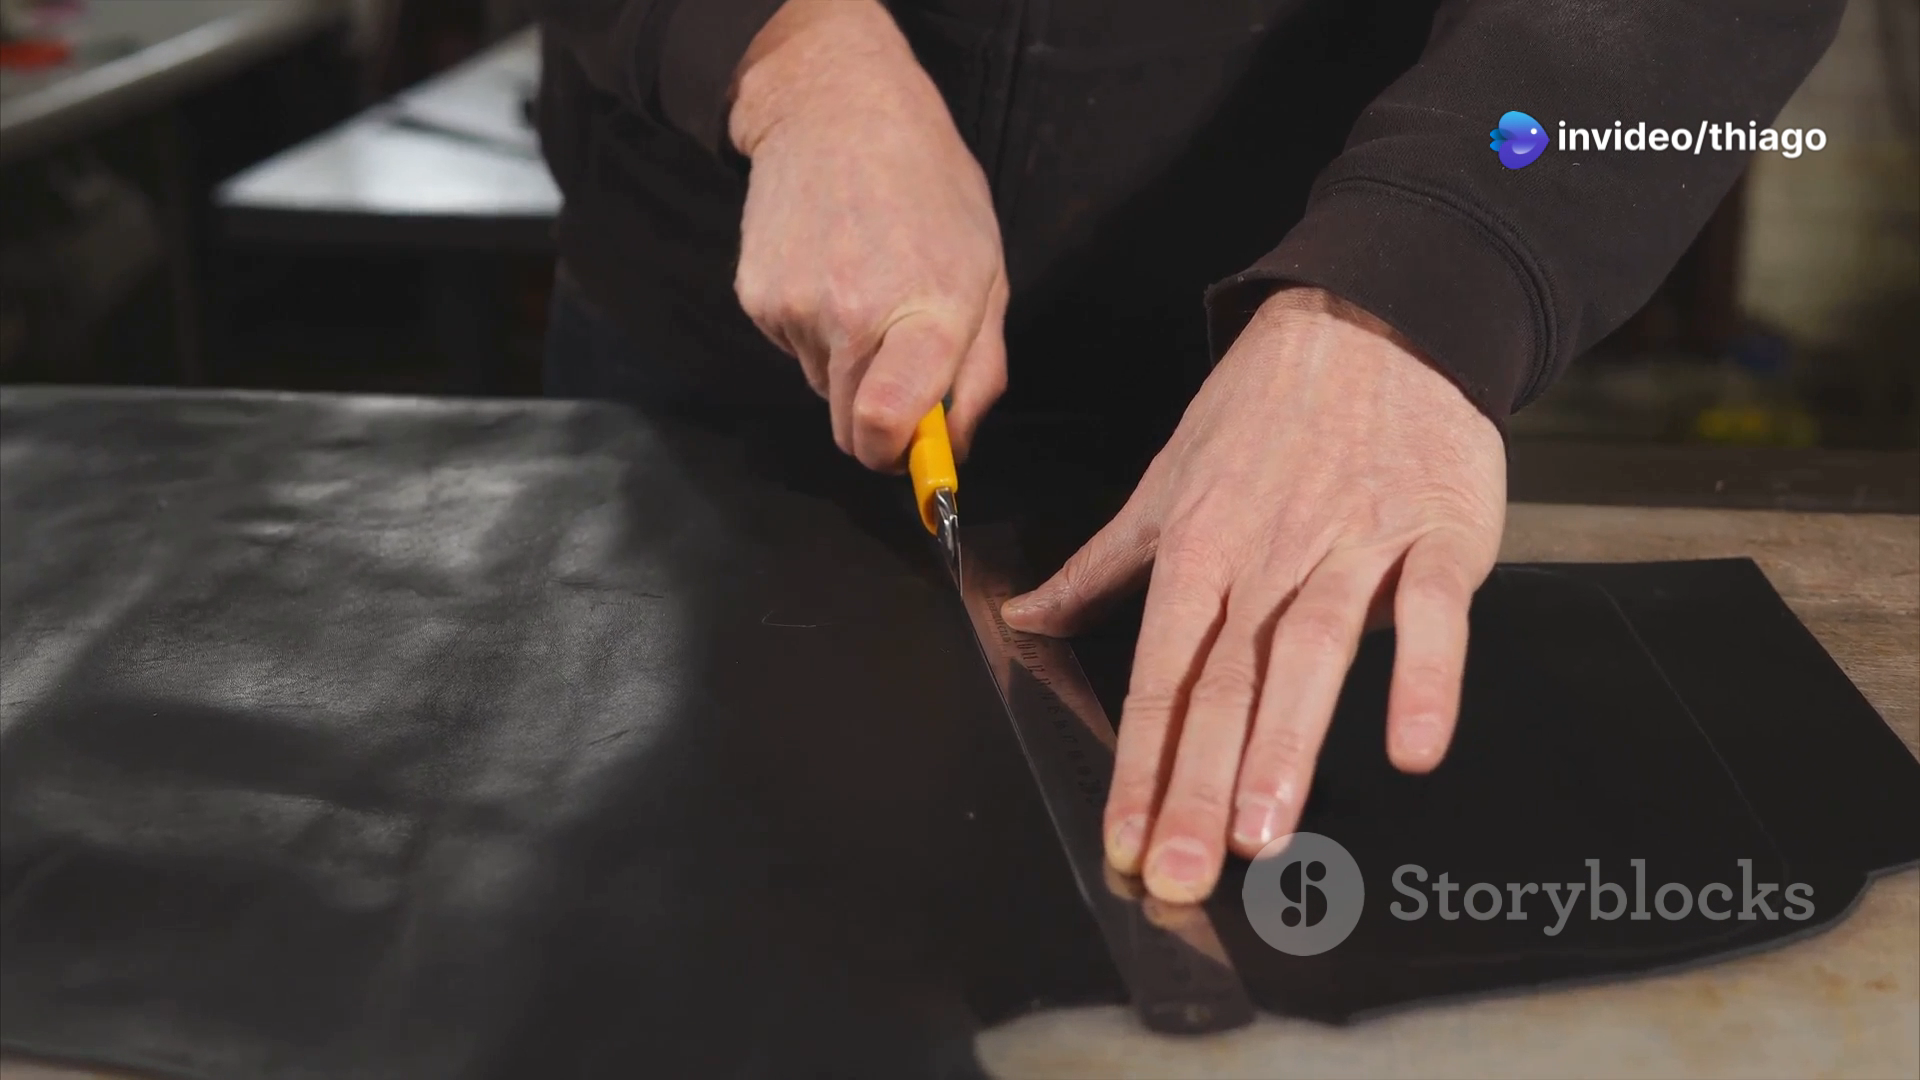cortante: (932, 487, 964, 596)
